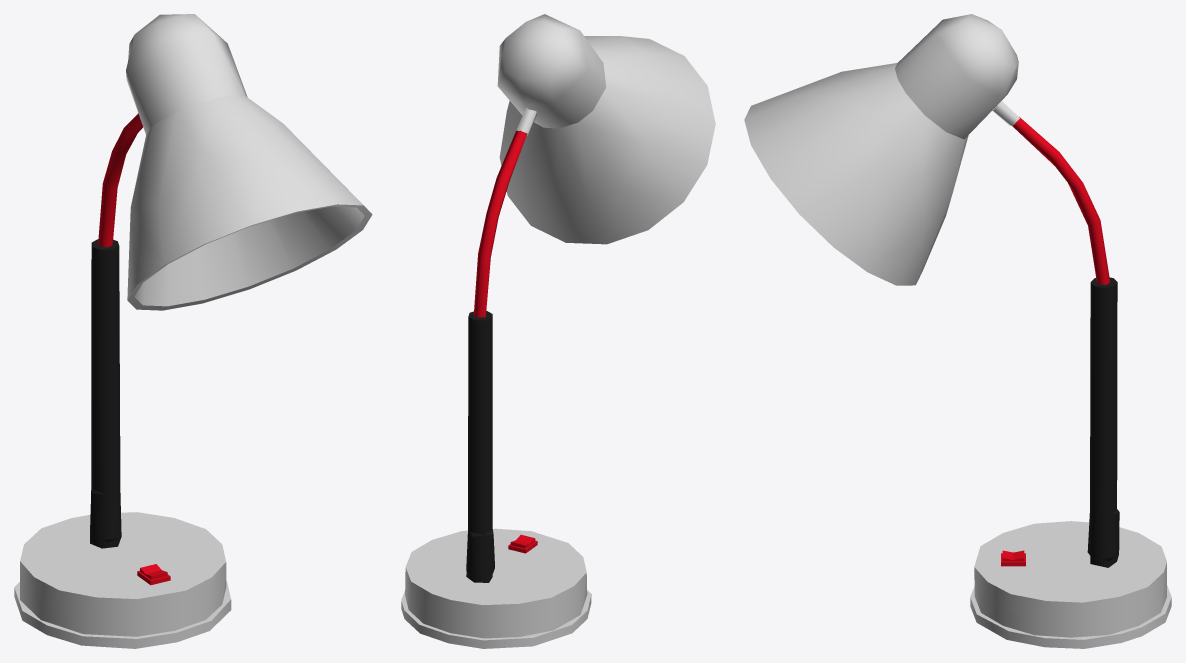
Rendered from SM_Lamp.fbx.
3 renders of one model, left to right at view 1: azimuth 30°, elevation 25°; view 2: azimuth 150°, elevation 25°; view 3: azimuth 270°, elevation 25°, orthographic. The views are drawn at different scales.
Parts seen in each view (by area): view 1: SM_Lamp; view 2: SM_Lamp; view 3: SM_Lamp.
Boxes of the visible parts, x1,y1,x2,y2 form: SM_Lamp: [14, 14, 372, 648]; SM_Lamp: [401, 14, 715, 648]; SM_Lamp: [744, 14, 1171, 648].
Bounding box in the file's own units: 18.44 × 48.82 × 32.24.
